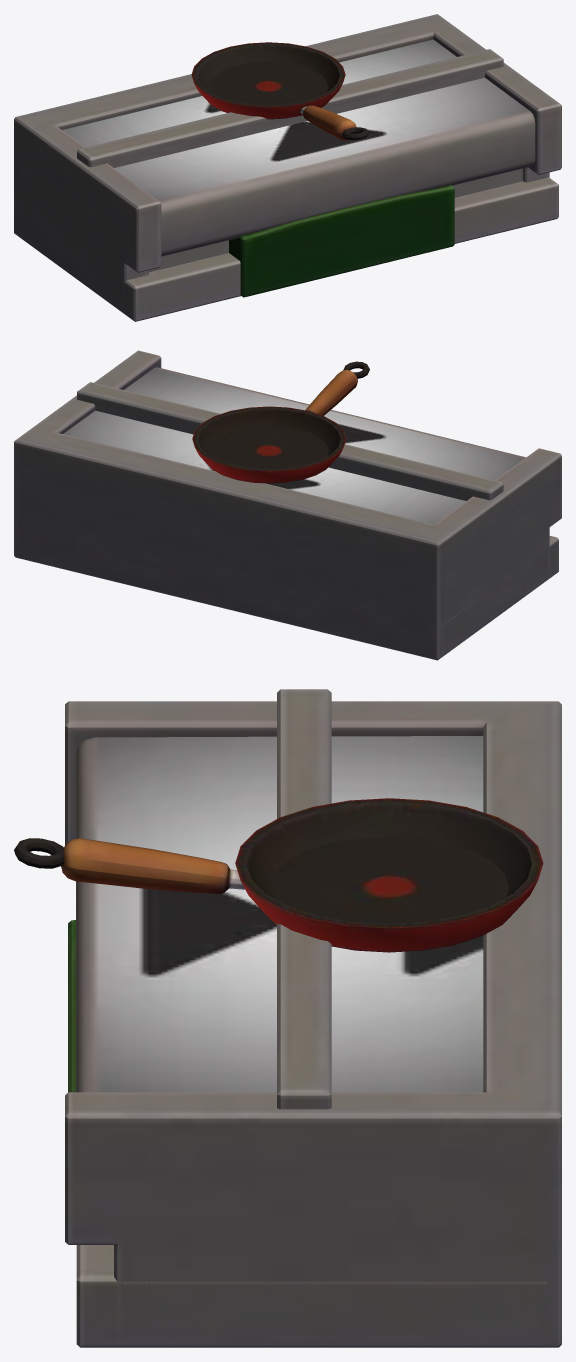
File: kitchen.glb
3 renders of one model, top to bottom at view 1: azimuth 30°, elevation 25°; view 2: azimuth 150°, elevation 25°; view 3: azimuth 270°, elevation 25°, orthographic. The views are drawn at different scales.
Visible parts, largest first — view 1: pass, plate-rack, bin, pan; view 2: pass, pan, plate-rack; view 3: pass, plate-rack, pan, bin.
Part boxes in pixels (<box>): pass: <box>14,14,561,312</box>; plate-rack: <box>17,49,558,321</box>; bin: <box>229,185,454,297</box>; pan: <box>191,42,368,140</box>; pass: <box>14,350,561,660</box>; pan: <box>192,361,369,483</box>; plate-rack: <box>77,382,558,656</box>; pass: <box>65,701,561,1347</box>; plate-rack: <box>76,689,546,1347</box>; pan: <box>14,798,543,952</box>; bin: <box>68,920,75,1092</box>.
Size of the model in its own units: 4 by 1.35 by 2.23.
3 materials, 3 textured.
